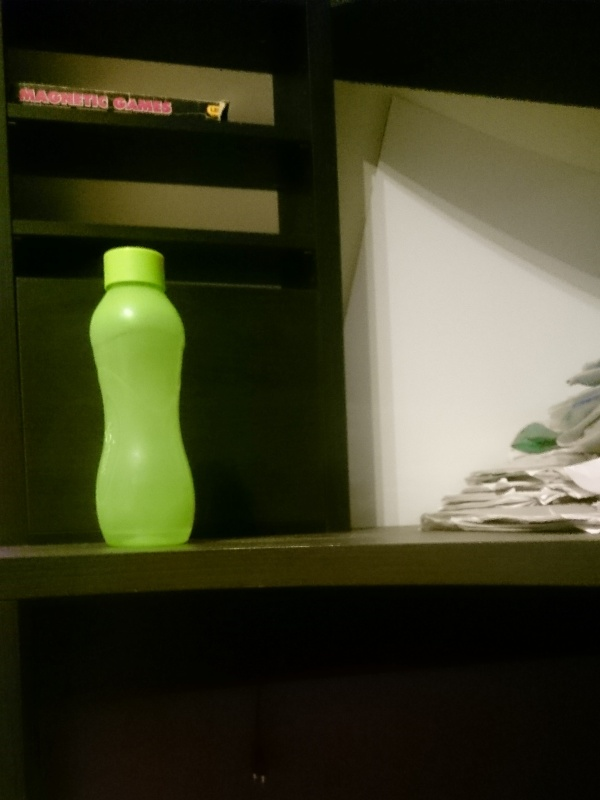my bottle: (89, 247, 194, 552)
